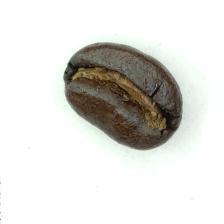NG: (70, 57, 172, 137)
